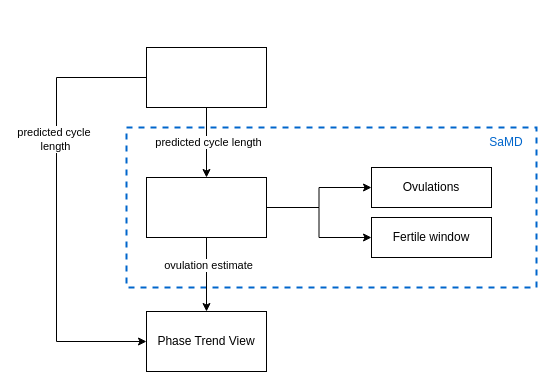
The diagram is 555 pixels wide and 389 high, and some of its shapes have lost their labels. The centre of each missing label's shape, as x and y in pixels:
"Bloom" belongs at (206,207).
"MCI" belongs at (206,77).
